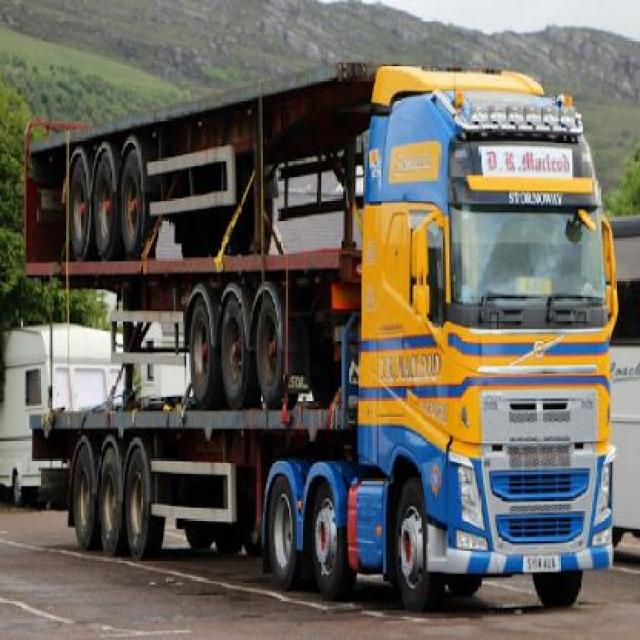truck: (19, 62, 619, 602)
